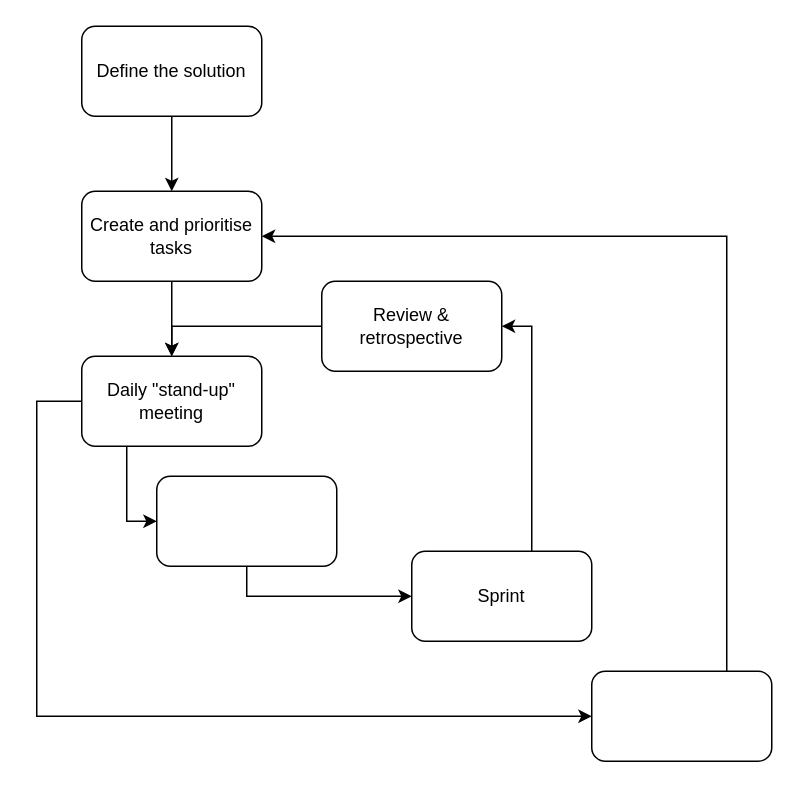
This 798x788 diagram has some shape labels left out. Each missing label, with the centre of its shape:
"Adapt based on reviews" goes at point 681,715.
"Plan sprint" goes at point 246,520.
